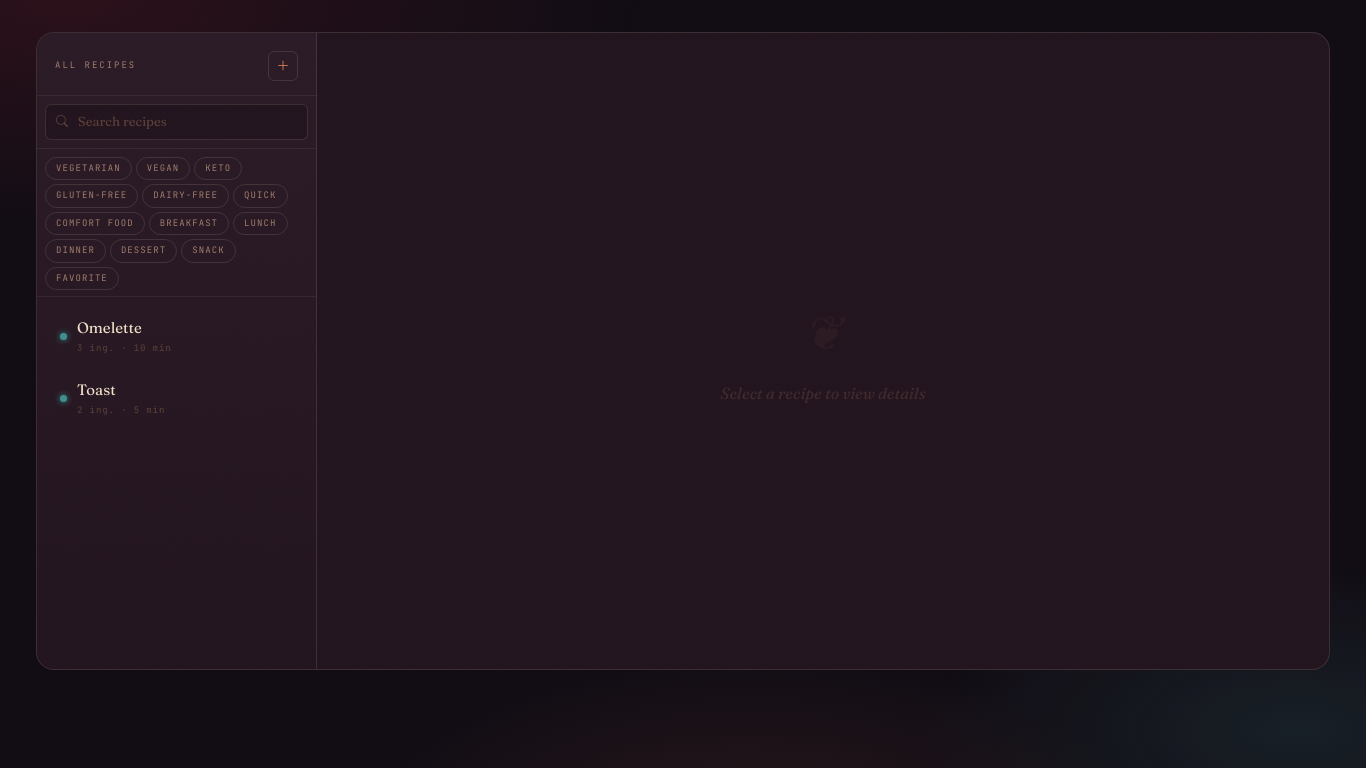
Test: selecting a recipe › shows recipe detail when a recipe is clicked
Click the text "Omelette" at (109,328), box [77,318,142,337]
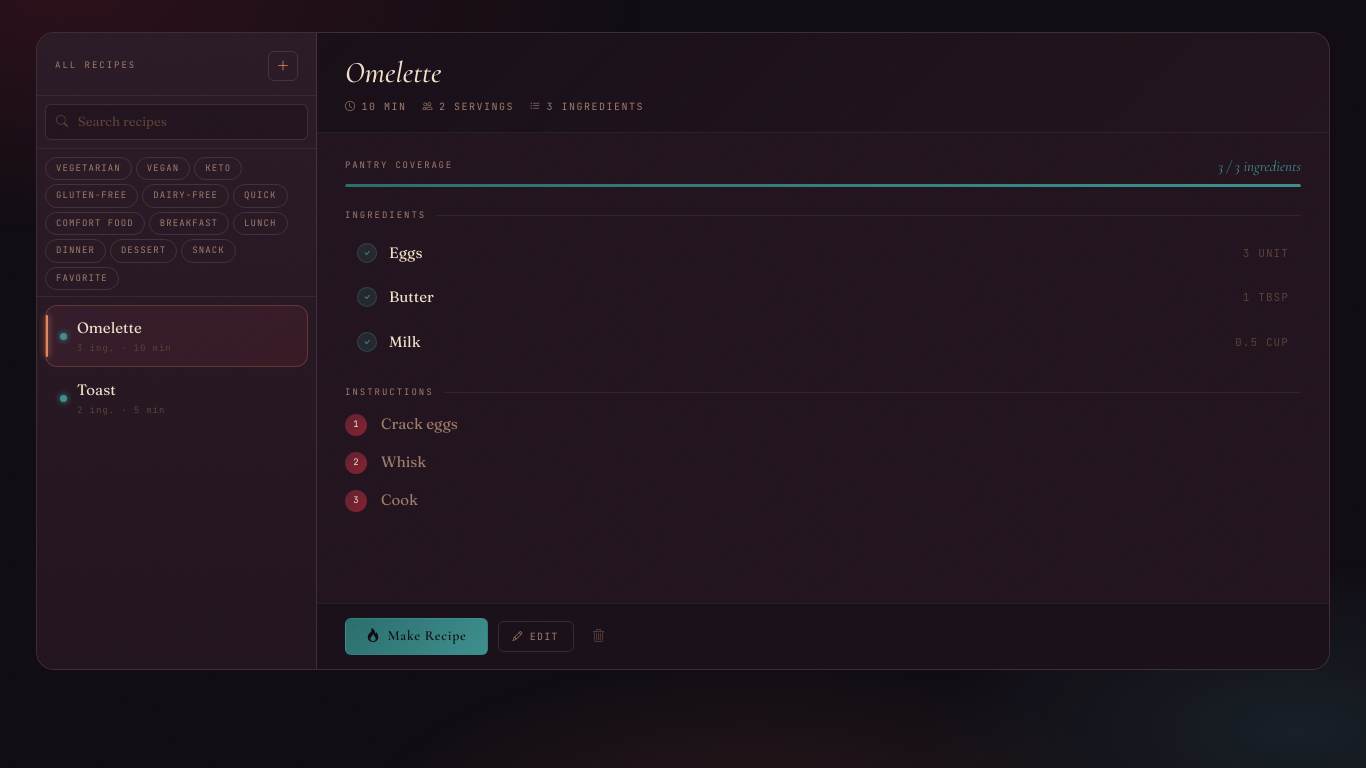
expect the text "Eggs" is shown: met, box [389,242,422,262]
expect the text "Crack eggs" is shown: met, box [381,412,458,436]
